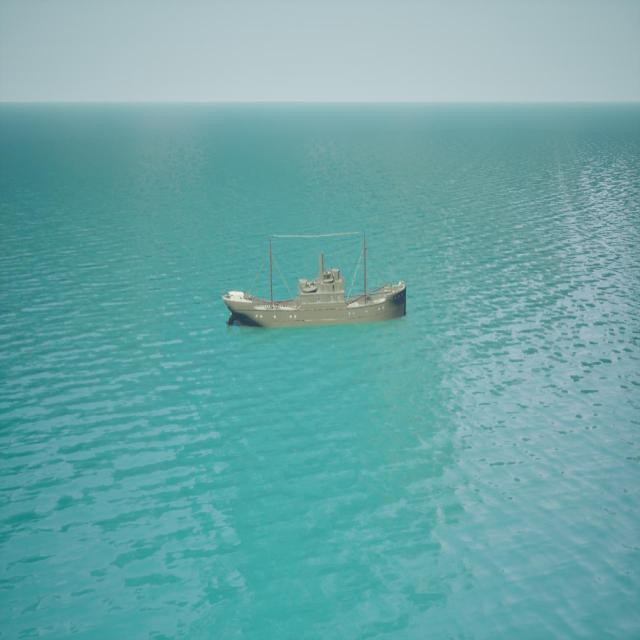fishing ship: (225, 236, 408, 334)
